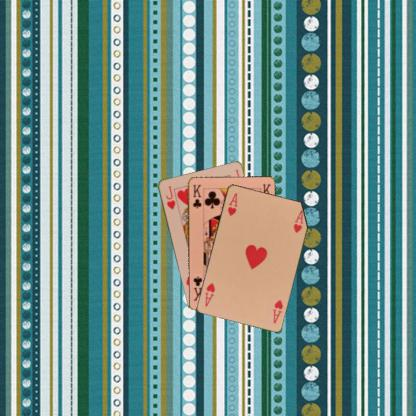Ah: (270, 297, 284, 325), (224, 190, 238, 217)
Jh: (163, 183, 176, 211)
Kc: (190, 182, 203, 209)
